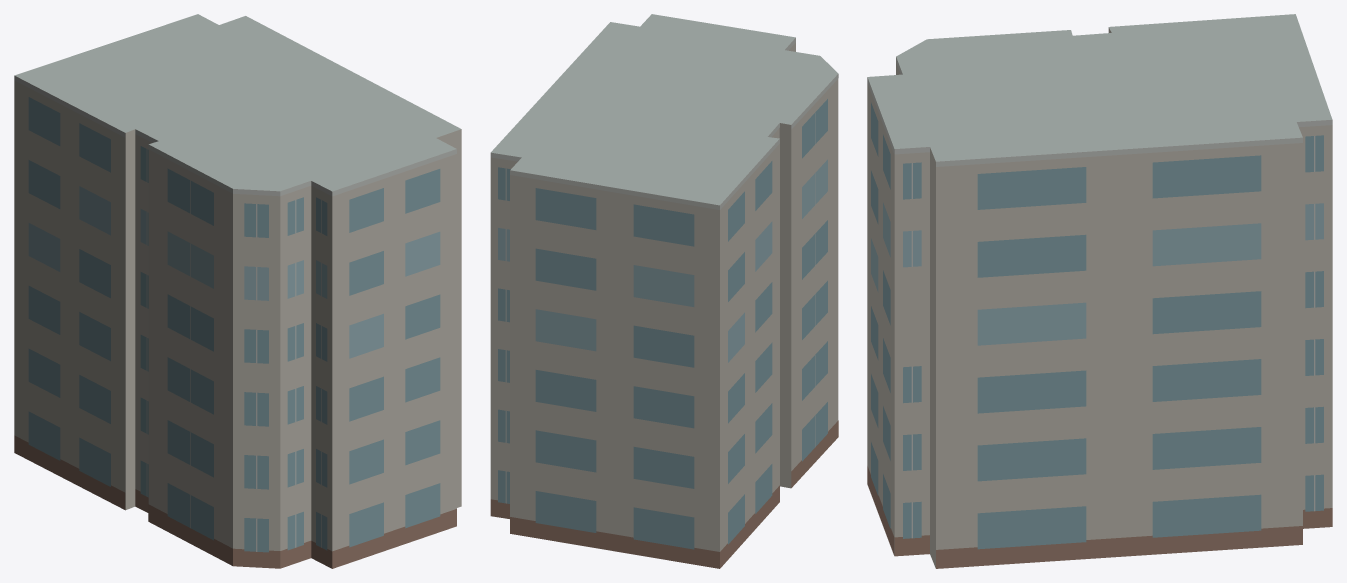
File: survey-upis-32714590.glb
3 views of the same model, side by side, from view 1: azimuth 30°, elevation 25°; view 2: azimuth 150°, elevation 25°; view 3: azimuth 270°, elevation 25° (orthographic). The views are drawn at different scales.
Visible parts, largest first — view 1: survey-upis-32714590.tmp; view 2: survey-upis-32714590.tmp; view 3: survey-upis-32714590.tmp.
Part boxes in pixels (x1,y1,x2,y2): survey-upis-32714590.tmp: [14, 14, 461, 568]; survey-upis-32714590.tmp: [490, 14, 838, 568]; survey-upis-32714590.tmp: [867, 14, 1332, 568].
Size of the model in its own units: 14.56 by 18.7 by 19.37.
